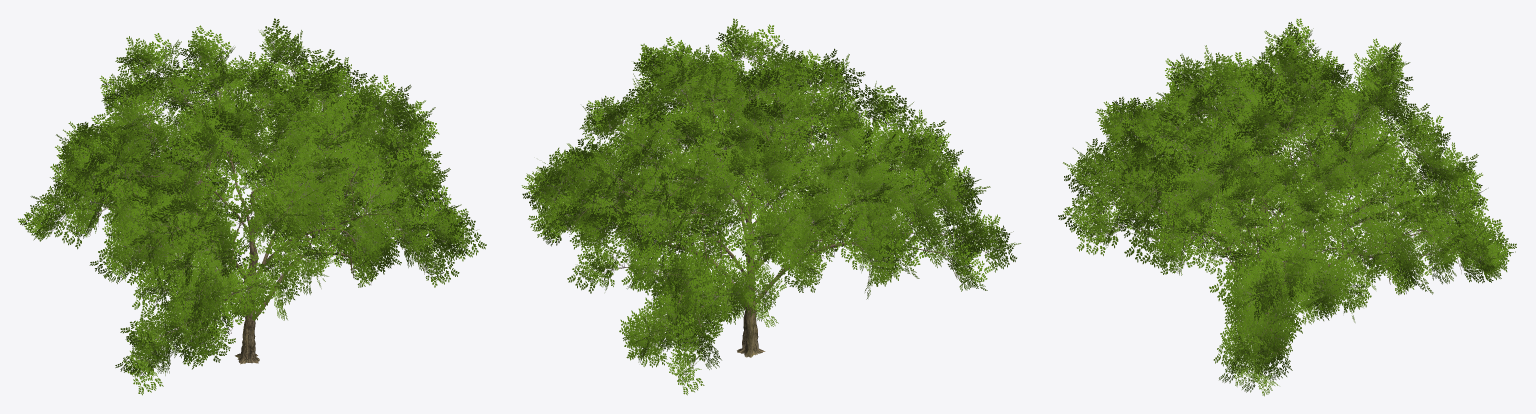
The model's file is baum_buche_1_lod0.glb.
The picture shows the model from 3 angles, left to right: view 1: azimuth 30°, elevation 25°; view 2: azimuth 150°, elevation 25°; view 3: azimuth 270°, elevation 25°; orthographic projection. The views are drawn at different scales.
Parts seen in each view (by area): view 1: Krone, Stamm; view 2: Krone, Stamm; view 3: Krone, Stamm.
Boxes of the visible parts, x1=… form: Krone: x1=18, y1=18, x2=486, y2=395; Stamm: x1=52, y1=59, x2=448, y2=367; Krone: x1=521, y1=18, x2=1020, y2=395; Stamm: x1=554, y1=57, x2=985, y2=372; Krone: x1=1058, y1=18, x2=1516, y2=396; Stamm: x1=1092, y1=75, x2=1482, y2=375.
Bounding box in the file's own units: 20.45 × 14 × 19.28.
Materials: 2 (2 with a texture image).
